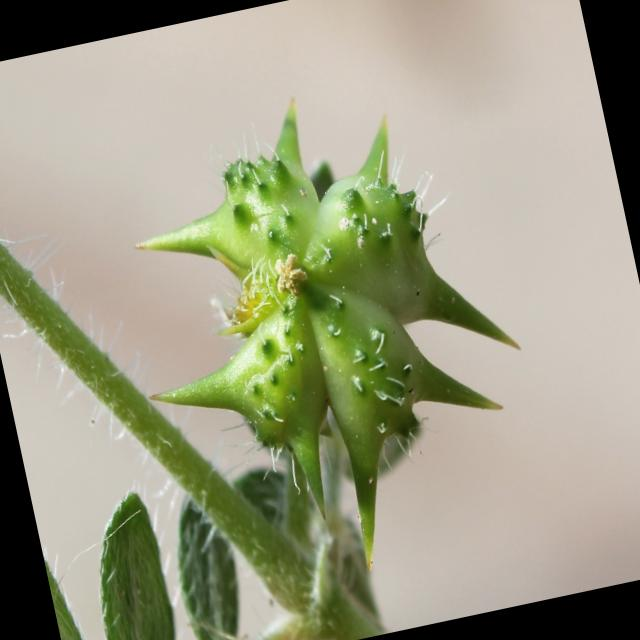Gokharu: (175, 75, 623, 640), (0, 164, 396, 640)
